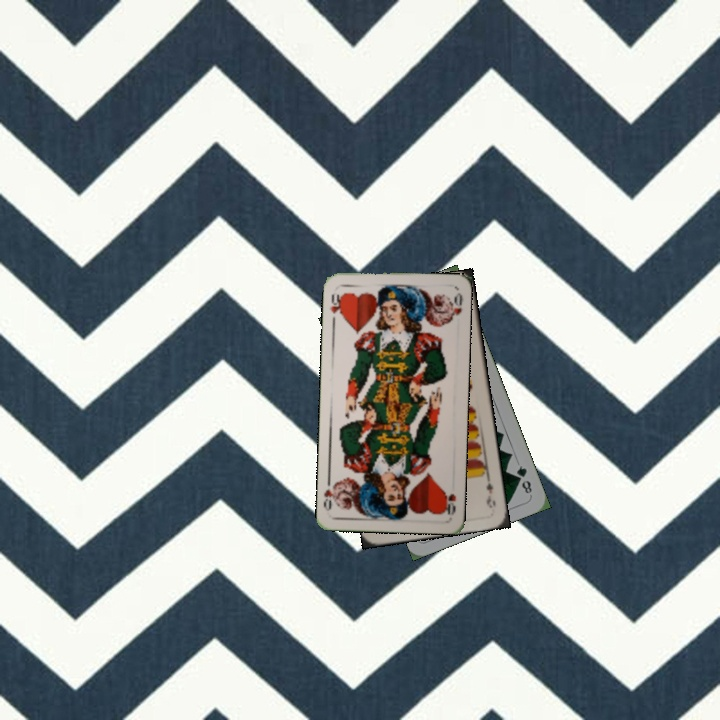E9: (482, 472, 498, 510)
G8: (512, 461, 535, 496)
HO: (326, 289, 346, 322), (440, 488, 459, 517)
